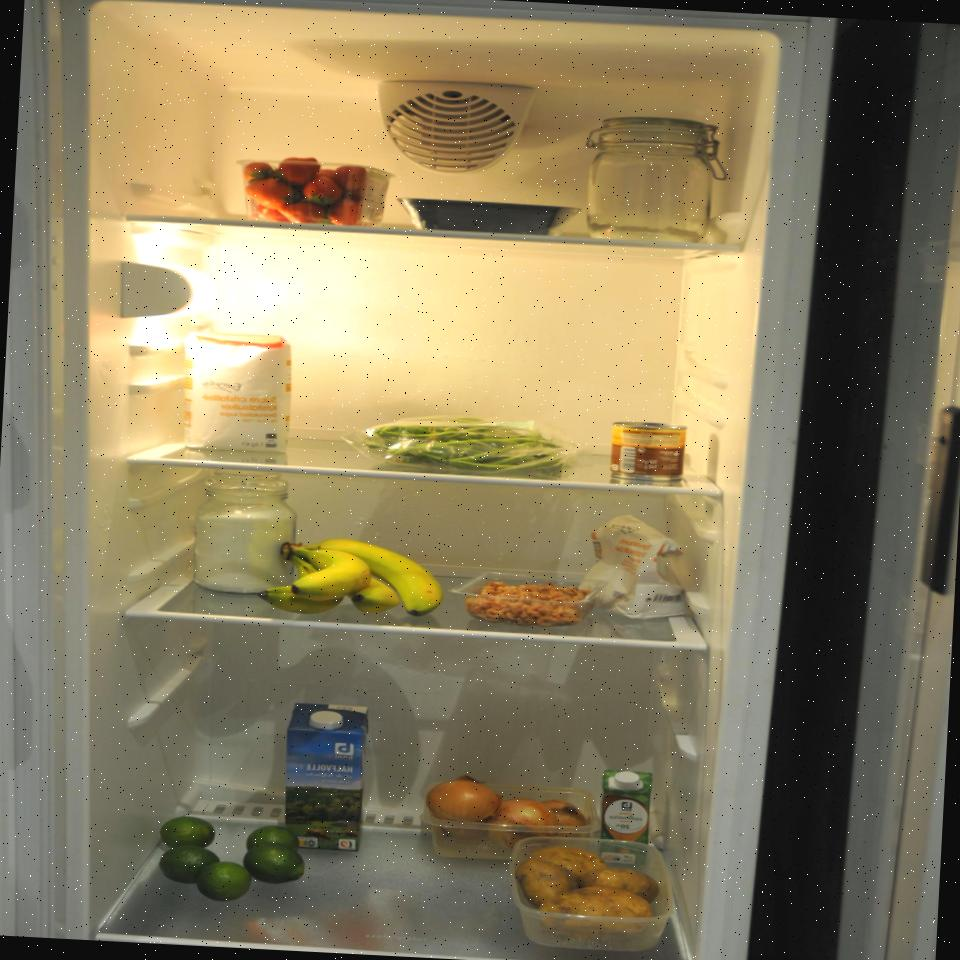Leche: (276, 699, 371, 855)
Plátano: (254, 532, 448, 622)
lime: (156, 814, 308, 906)
strawberries: (231, 149, 396, 232)
